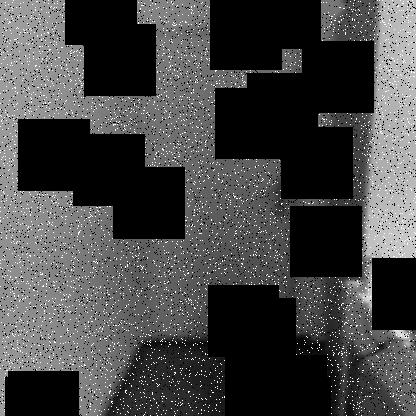Porte: (125, 17, 320, 348)
